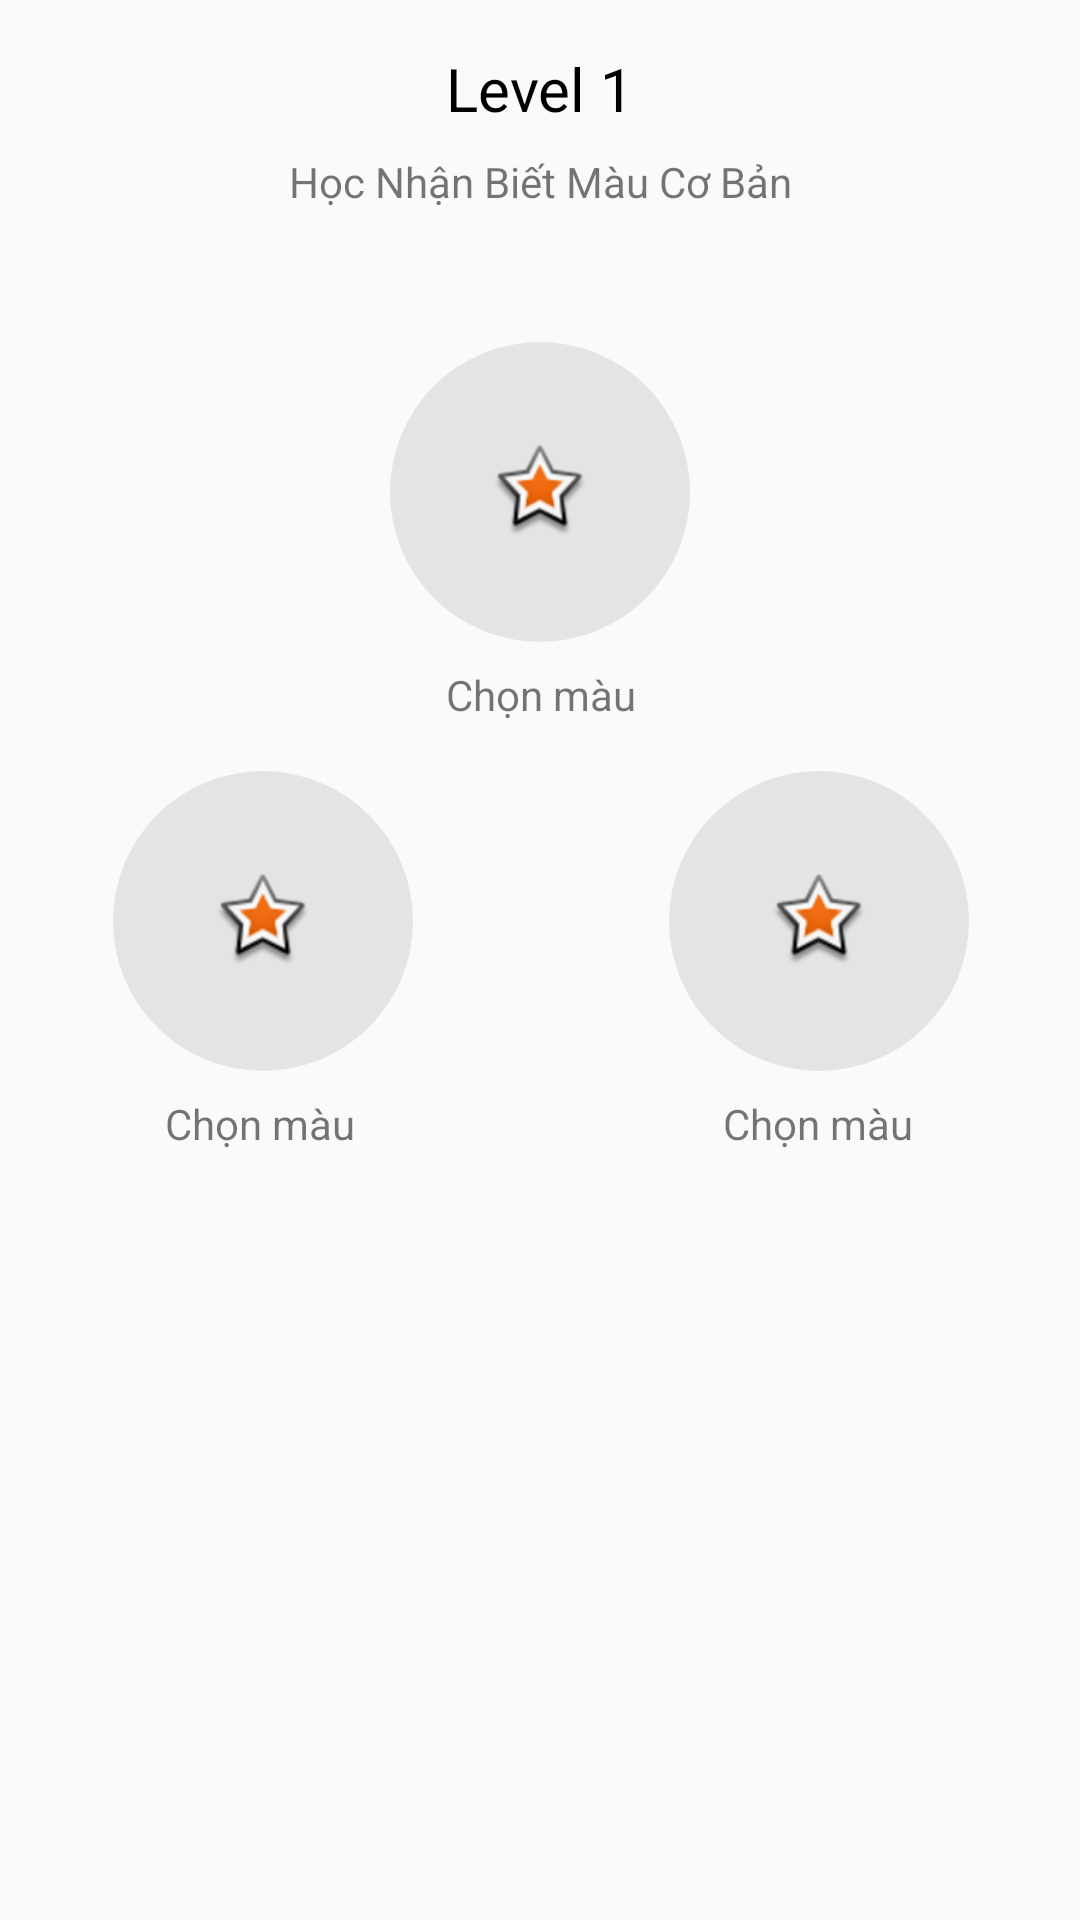

Point at icon controls on the screen. Image size 1080px x 1920px, points as [x,y].
star on: [540,492], [263,921], [819,921]
